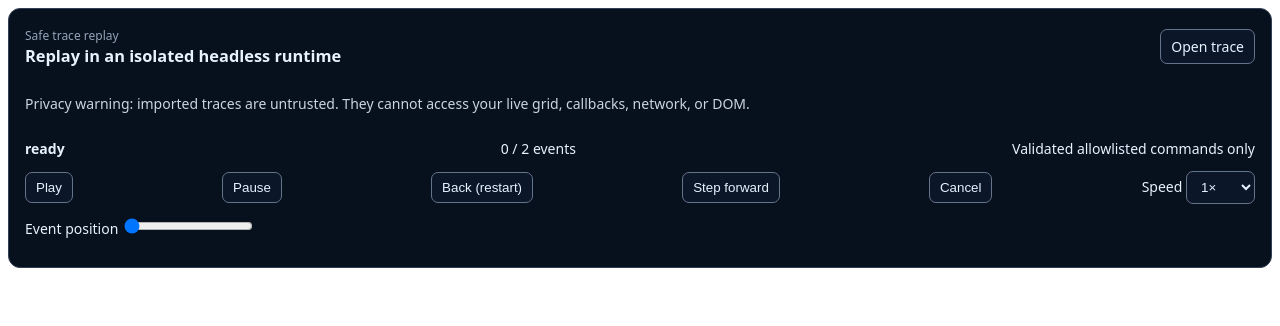
it: GridTraceReplayControls › repaints scheduled Play, Pause, and live speed changes without wall-clock timing
Click the button "Play": {"x": 49, "y": 187} [25,172,73,203]
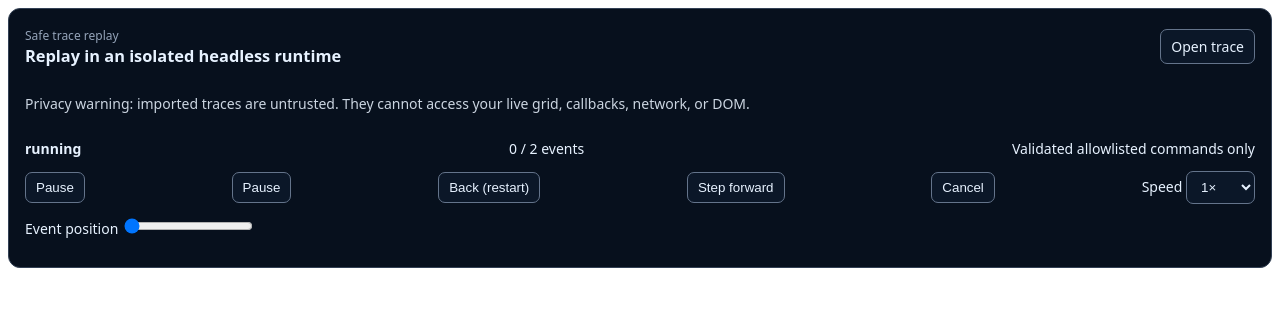
Expected: the text "running" is shown, [25,139,81,159]
Select "2×" in the dropdown named "Replay speed": {"x": 1220, "y": 187} [1186,171,1255,204]
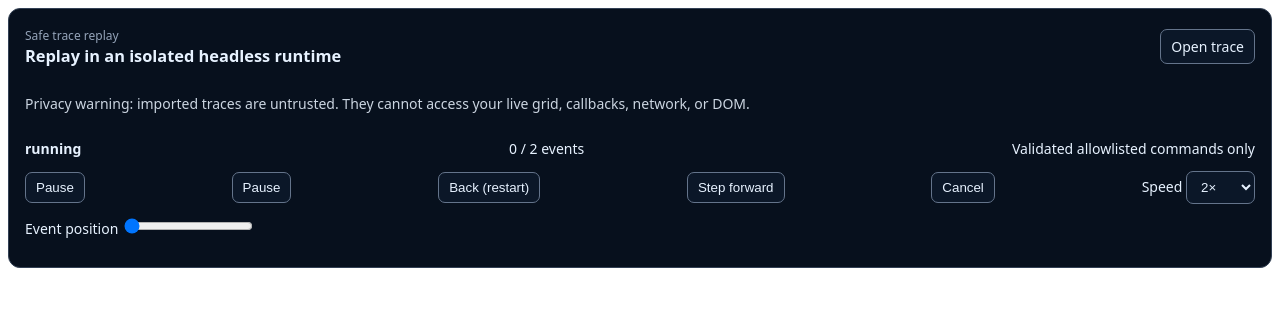
Click the 1st button "Pause": {"x": 55, "y": 187} [25,172,85,203]
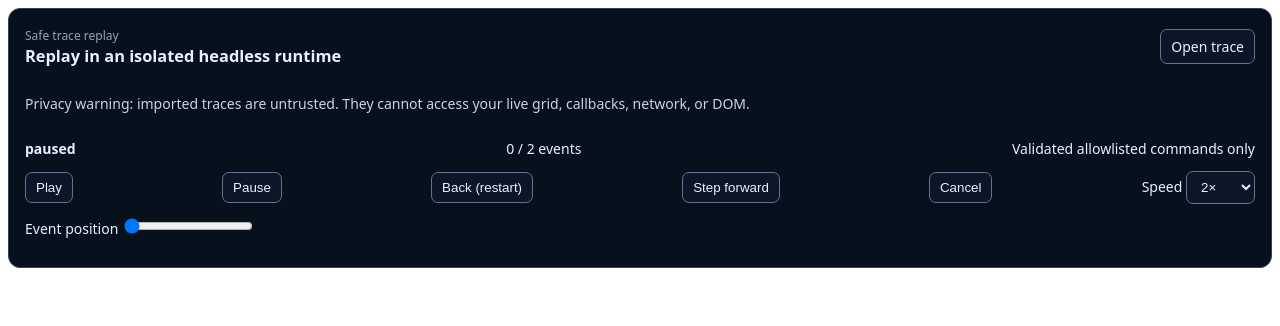
Expected: the text "0 / 2 events" is shown, [506,139,581,159]
Expected: the text "paused" is shown, [25,139,76,159]
Click the button "Play": {"x": 49, "y": 187} [25,172,73,203]
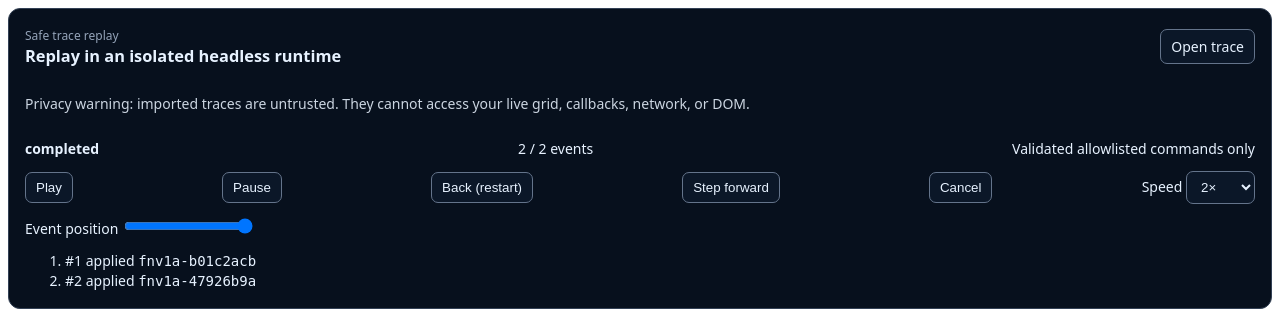
Expected: the text "completed" is shown, [25,139,99,159]
Expected: the text "2 / 2 events" is shown, [518,139,593,159]
